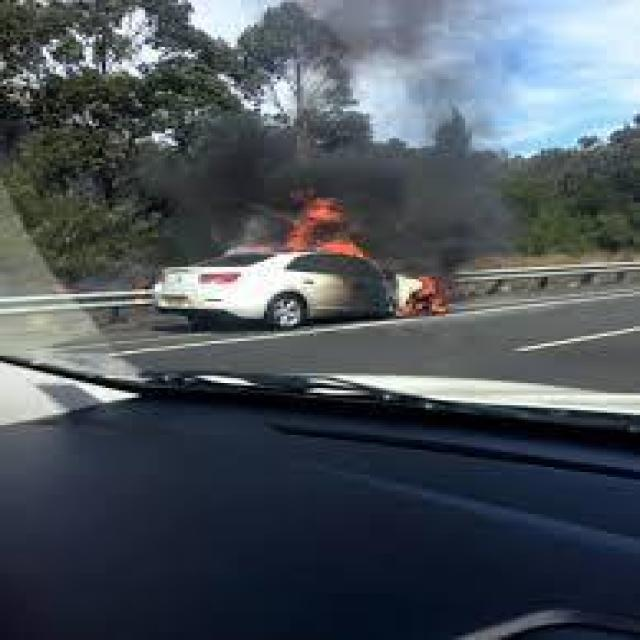fire: (266, 190, 467, 320)
smoke: (159, 129, 508, 251)
